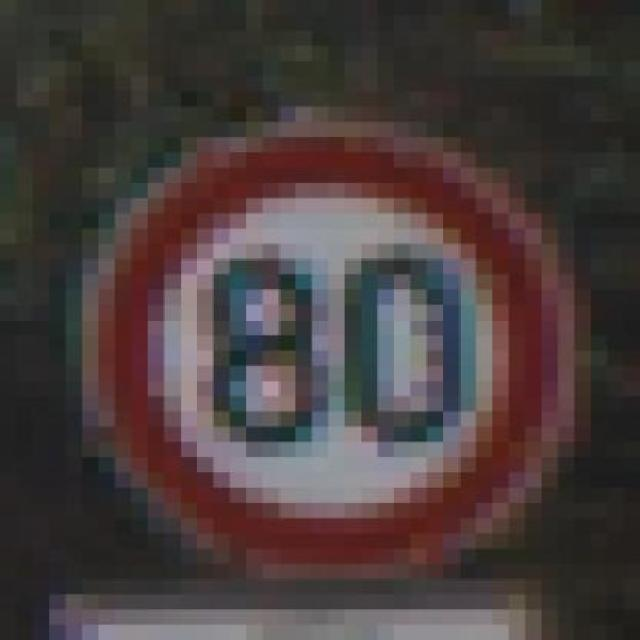forb_speed_over_80: (92, 129, 557, 578)
